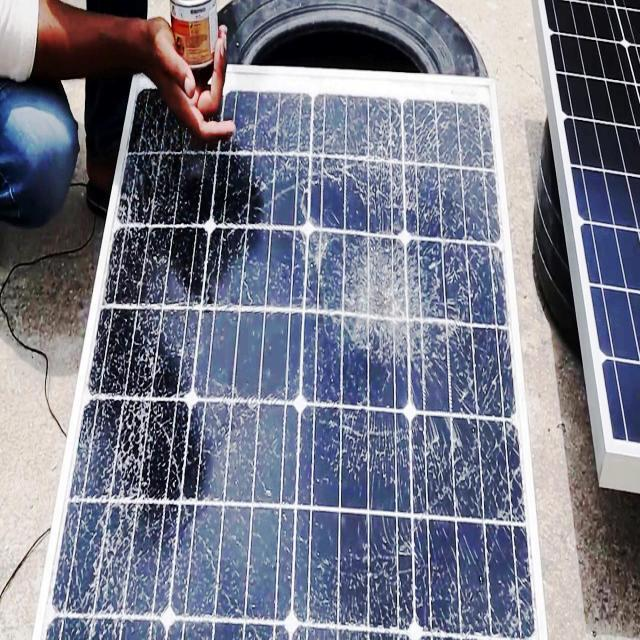faulty: (33, 68, 540, 636)
no faulty: (539, 4, 640, 454)
